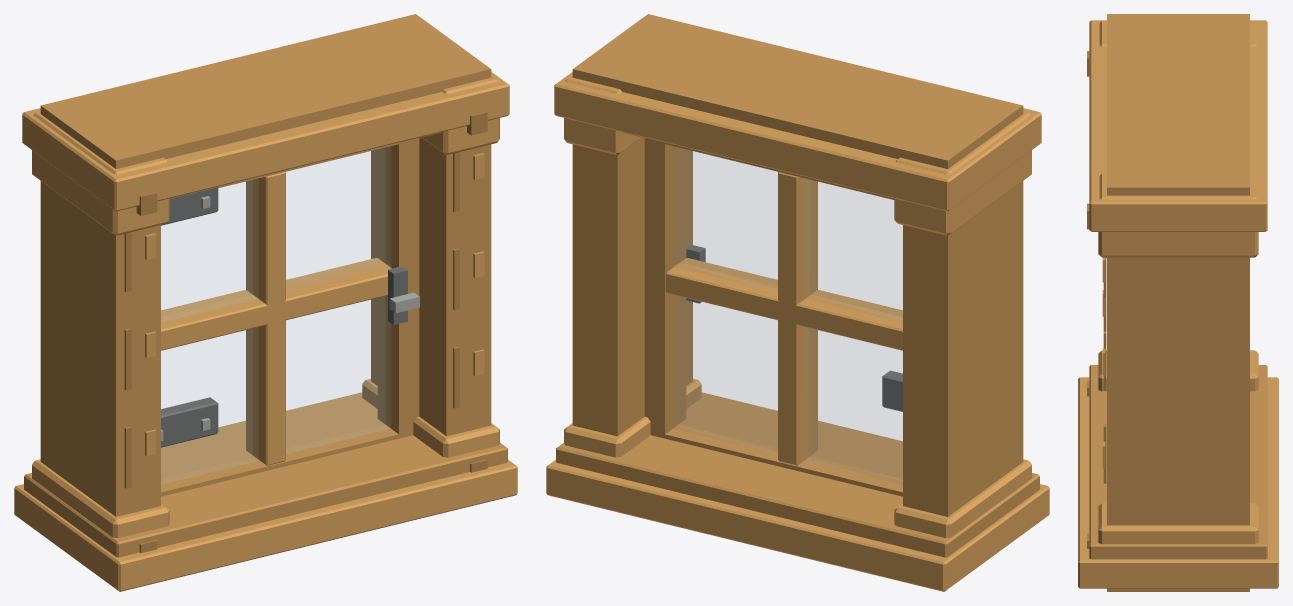
Rendered from oak_window.gltf.
3 renders of one model, left to right at view 1: azimuth 30°, elevation 25°; view 2: azimuth 150°, elevation 25°; view 3: azimuth 270°, elevation 25°, orthographic. The views are drawn at different scales.
Bounding box in the file's own units: 0.98 × 1 × 0.45.
